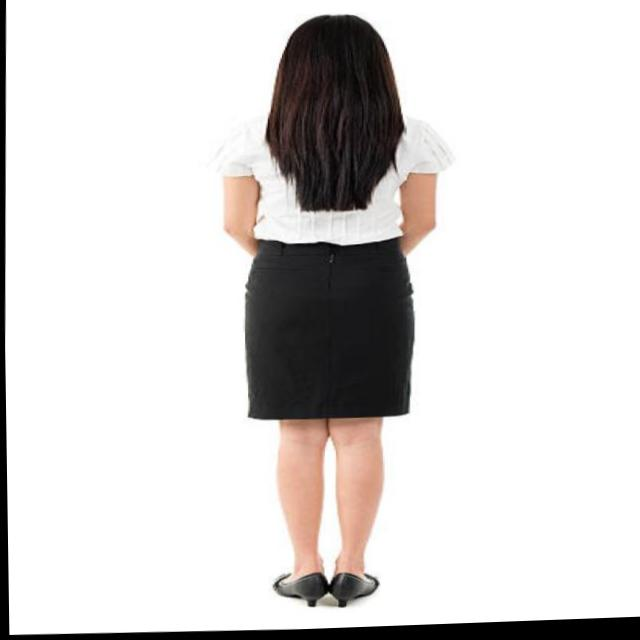no helmet: (248, 13, 413, 159)
